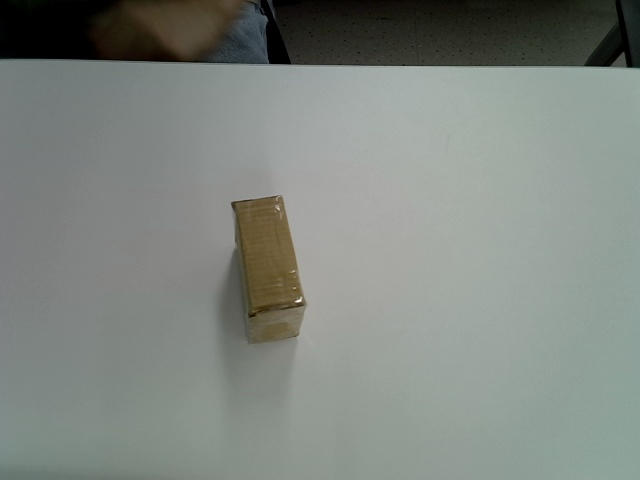normal: (230, 195, 309, 345)
